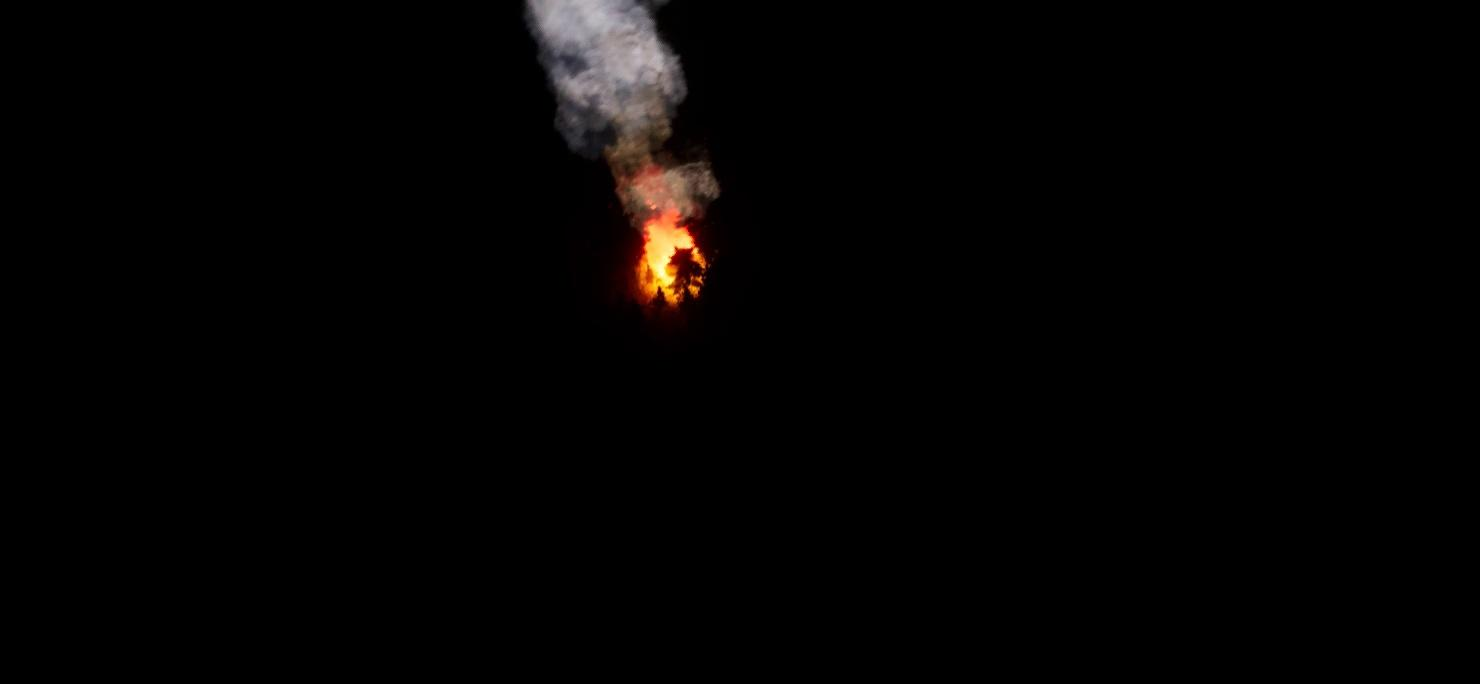fire: (629, 214, 718, 296)
smoke: (529, 0, 734, 217)
